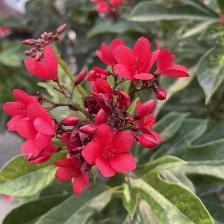jatropha: (6, 86, 58, 165), (86, 124, 140, 181), (112, 38, 162, 82), (56, 153, 99, 194), (26, 43, 61, 83), (156, 45, 192, 83)
